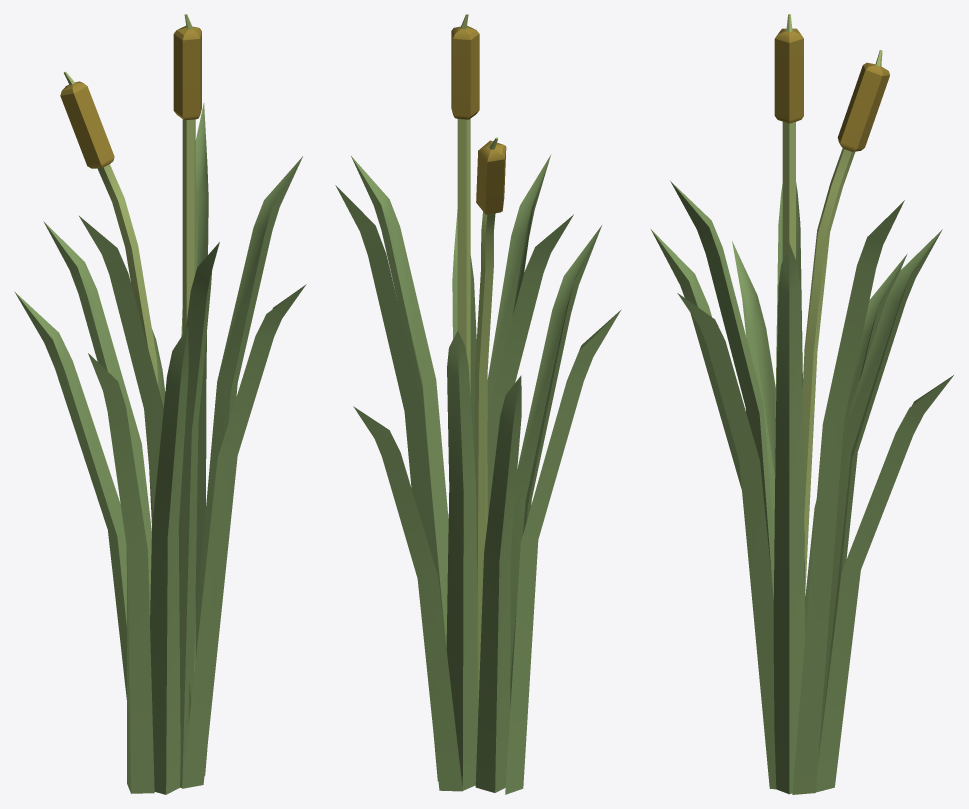
File: Cattails.fbx
3 views of the same model, side by side, from view 1: azimuth 30°, elevation 25°; view 2: azimuth 150°, elevation 25°; view 3: azimuth 270°, elevation 25° (orthographic).
Visible parts, largest first — view 1: pCone12; view 2: pCone12; view 3: pCone12.
Part boxes in pixels (box(x1,y1,x2,y2)): pCone12: box(14, 14, 306, 794); pCone12: box(335, 14, 621, 794); pCone12: box(650, 14, 953, 794).
Size of the model in its own units: 5.19 by 15.52 by 5.56.
